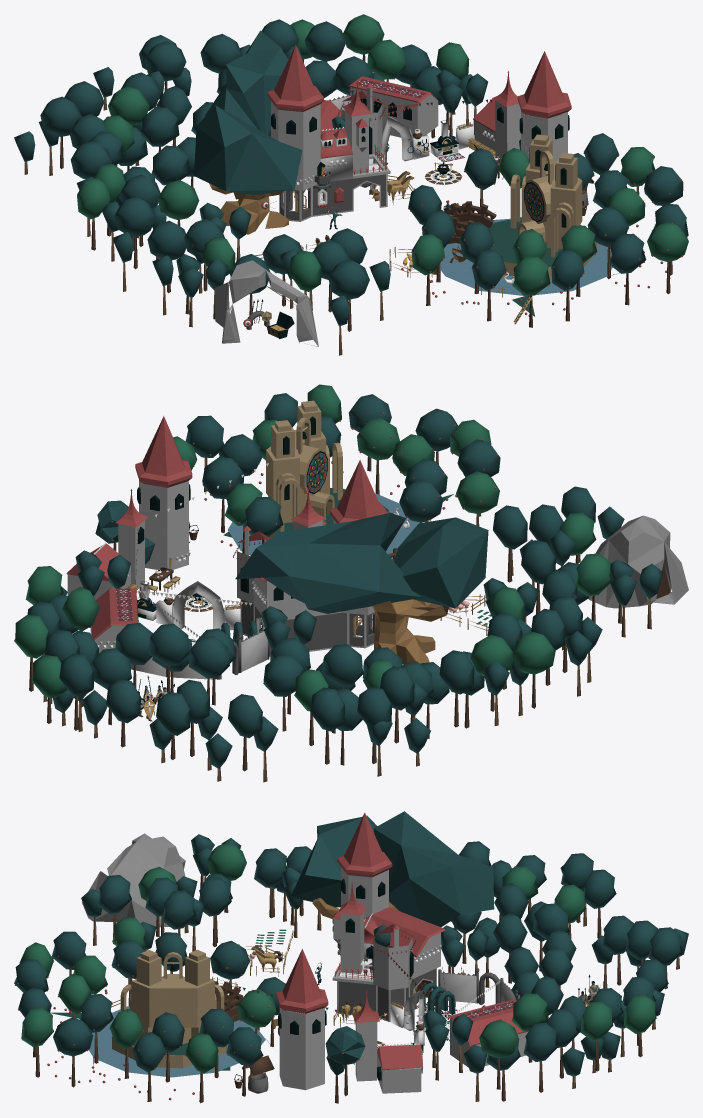
File: Andys-Robin-in-Sherwood.glb
3 renders of one model, top to bottom at view 1: azimuth 30°, elevation 25°; view 2: azimuth 150°, elevation 25°; view 3: azimuth 270°, elevation 25°, orthographic. The views are drawn at different scales.
Visible parts, largest first — view 1: robinhood.obj; view 2: robinhood.obj; view 3: robinhood.obj.
Part boxes in pixels (x1,y1,x2,y2): robinhood.obj: (14,14,688,355); robinhood.obj: (14,384,688,782); robinhood.obj: (14,811,688,1103).
Bounding box in the file's own units: 4543 × 1857 × 5789.
Materials: 1 (1 with a texture image).
